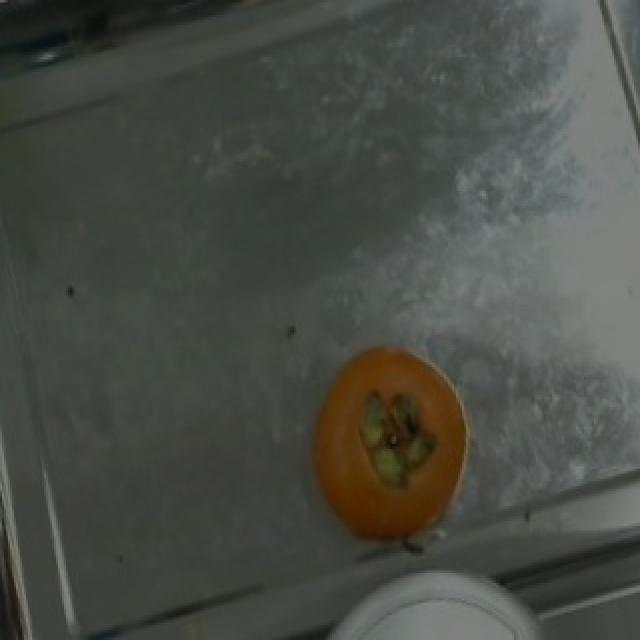Fruit: (294, 325, 494, 561), (314, 570, 544, 638)
